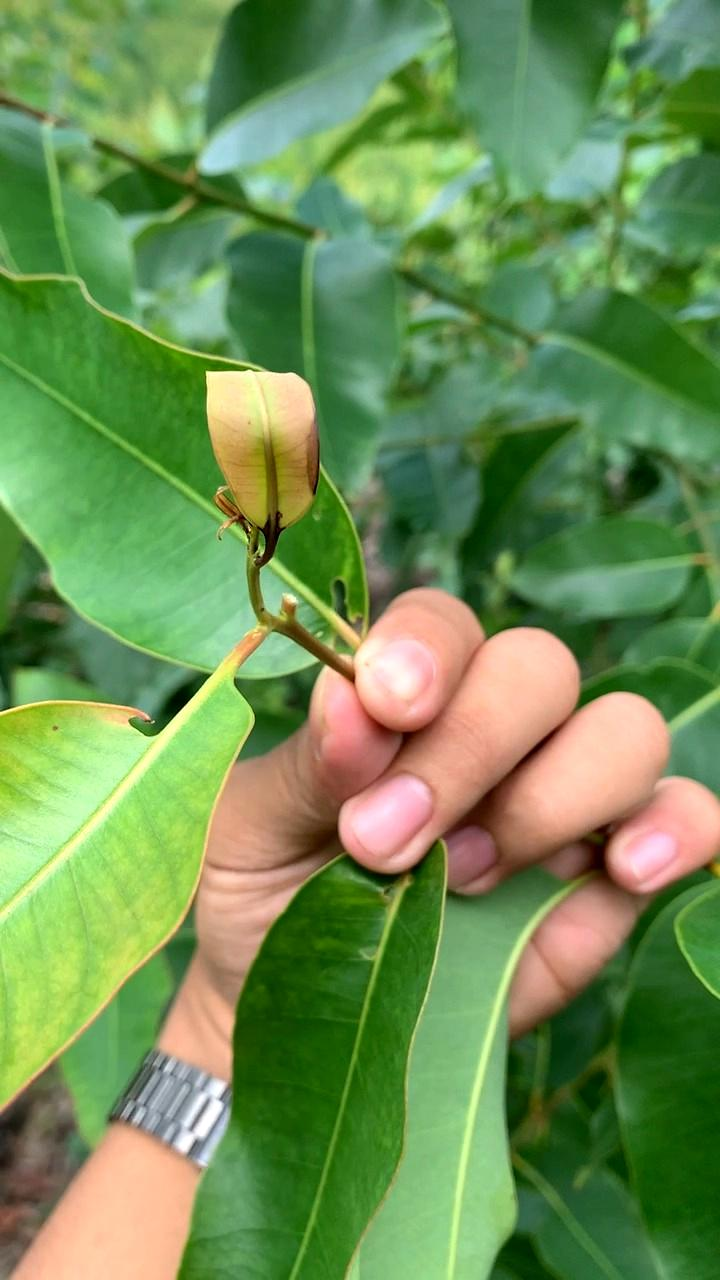Helopeltis-Withered Sprout: (203, 365, 331, 588)
